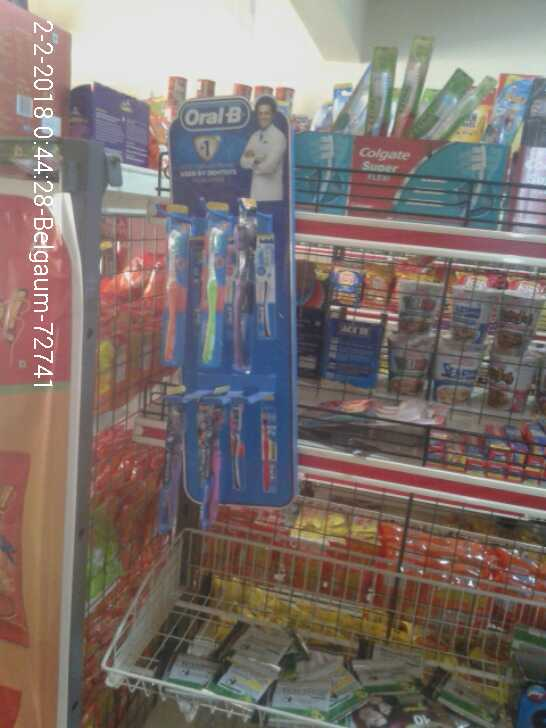oralb: (230, 207, 267, 381), (162, 210, 196, 375), (201, 219, 225, 368)
